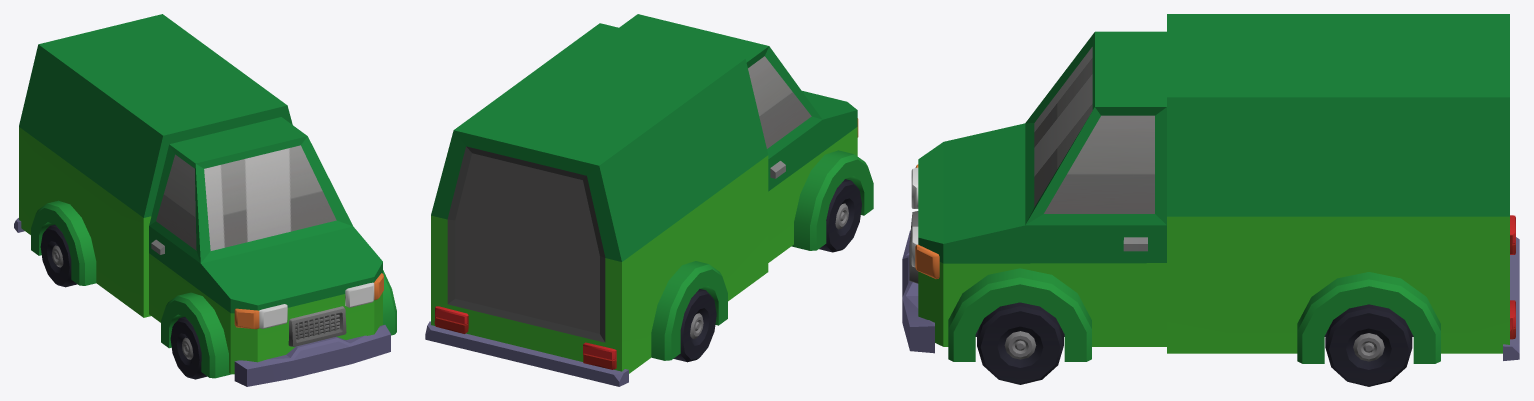
The model's file is Van_5.fbx.
3 renders of one model, left to right at view 1: azimuth 30°, elevation 25°; view 2: azimuth 150°, elevation 25°; view 3: azimuth 270°, elevation 25°, orthographic. The views are drawn at different scales.
Parts seen in each view (by area): view 1: Van_5, wheel_FR, wheel_BR; view 2: Van_5, wheel_BR, wheel_FR; view 3: Van_5, wheel_BL, wheel_FL.
Part boxes in pixels (left/top/right/bottom): Van_5: left=14, top=14, right=396, bottom=386; wheel_FR: left=170, top=317, right=207, bottom=379; wheel_BR: left=40, top=224, right=77, bottom=287; Van_5: left=425, top=14, right=873, bottom=386; wheel_BR: left=673, top=289, right=716, bottom=362; wheel_FR: left=819, top=179, right=861, bottom=252; Van_5: left=902, top=14, right=1519, bottom=363; wheel_BL: left=1325, top=304, right=1412, bottom=386; wheel_FL: left=977, top=302, right=1063, bottom=384.
Size of the model in its own units: 123 by 119 by 248.
